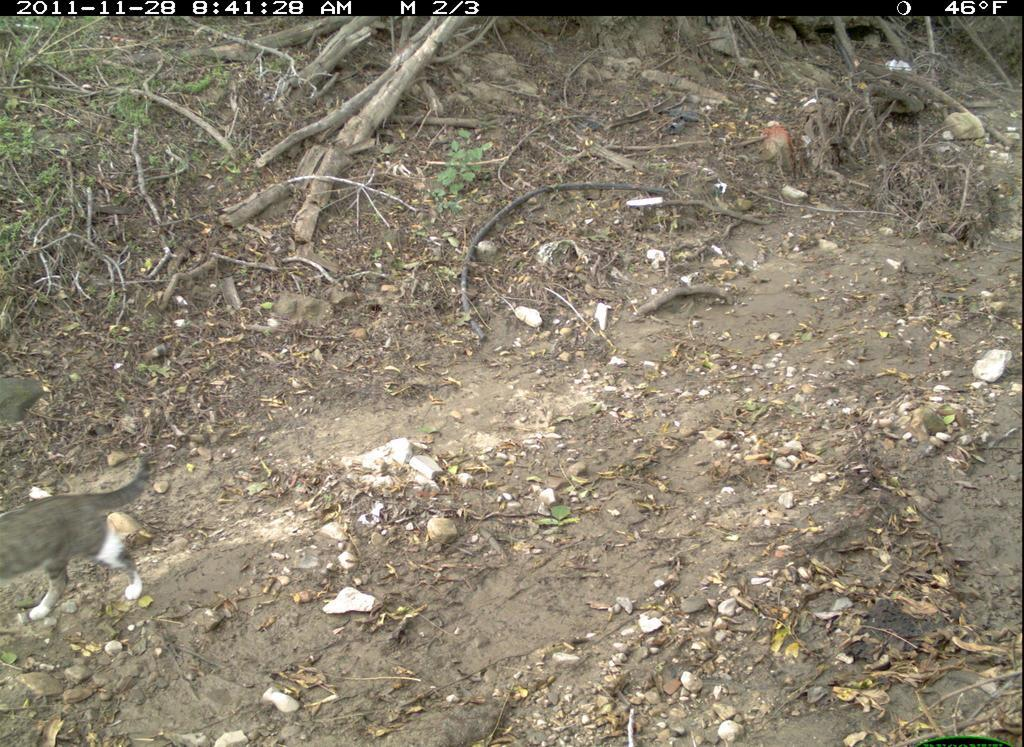cat: (2, 445, 172, 628)
